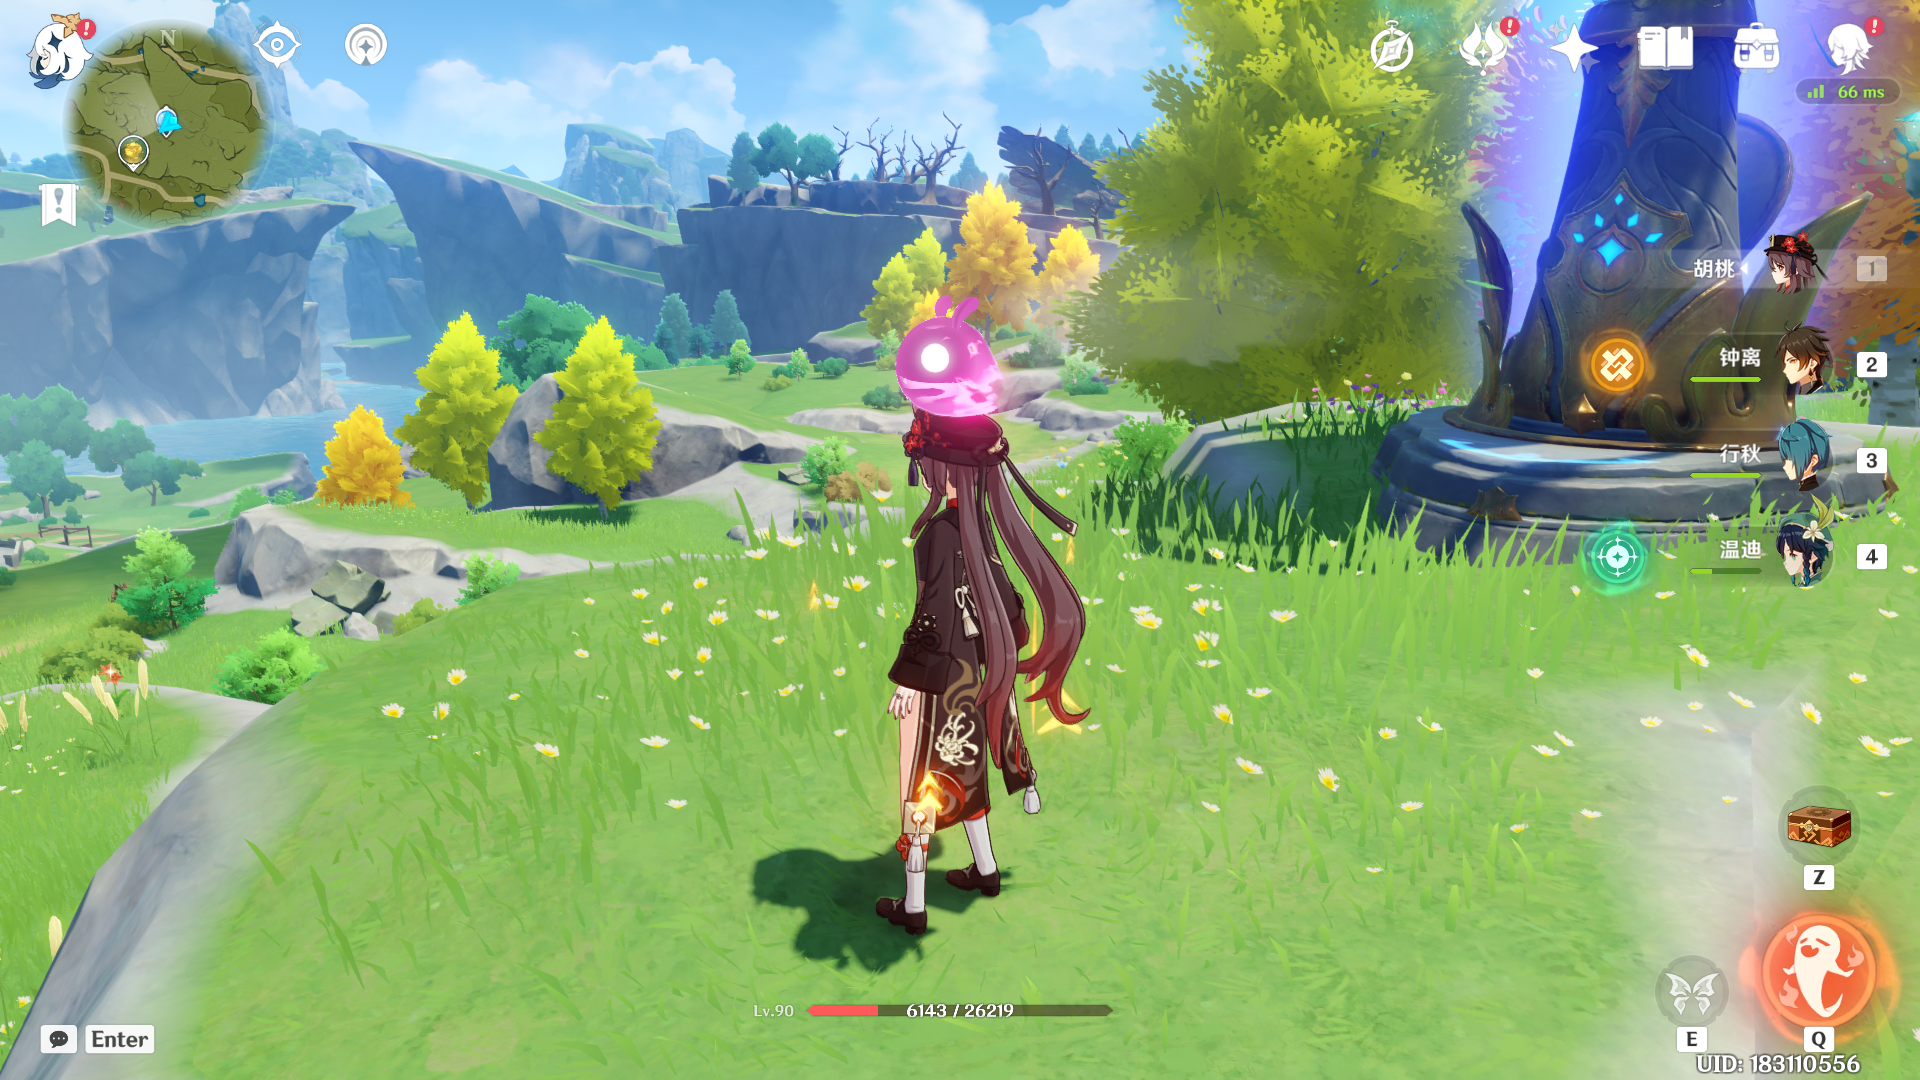character: (757, 314, 1149, 964)
